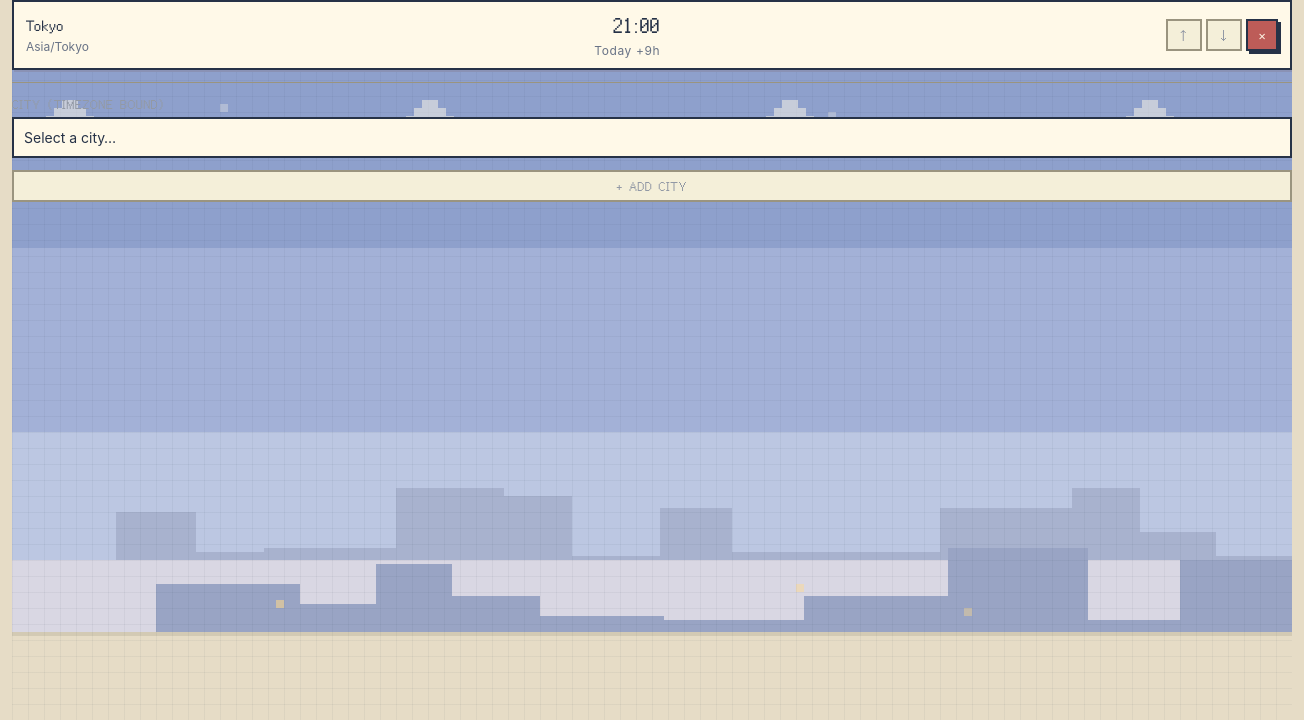
WorldClockSection add form › disables Add for a city that is already on the list
The image size is (1304, 720).
Expected: the text "Tokyo" is shown, [26,16,64,34]
Select "Tokyo · Asia/Tokyo" in the dropdown named "City and timezone" at x=652, y=138, box [12,117,1292,158]
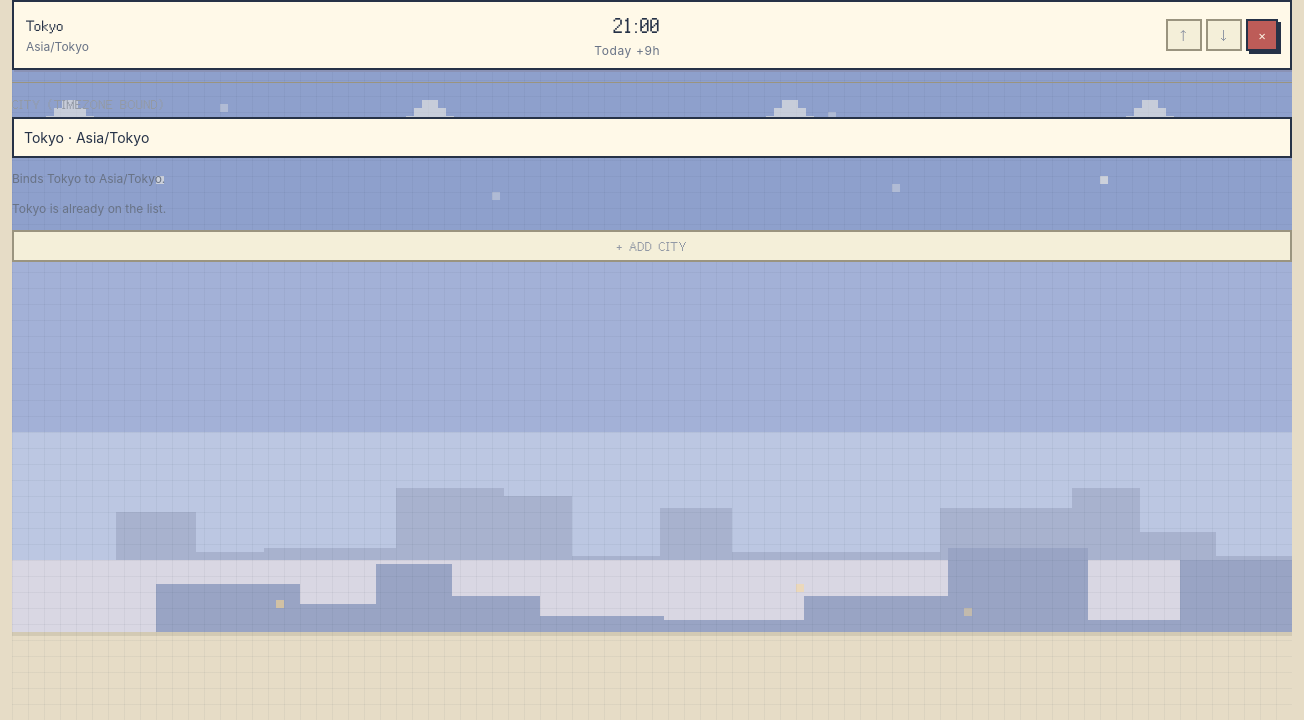
Expected: the button "+ Add City" is disabled, [12,230,1292,262]
Expected: the text "Tokyo is already on the list." is shown, [12,201,166,216]
